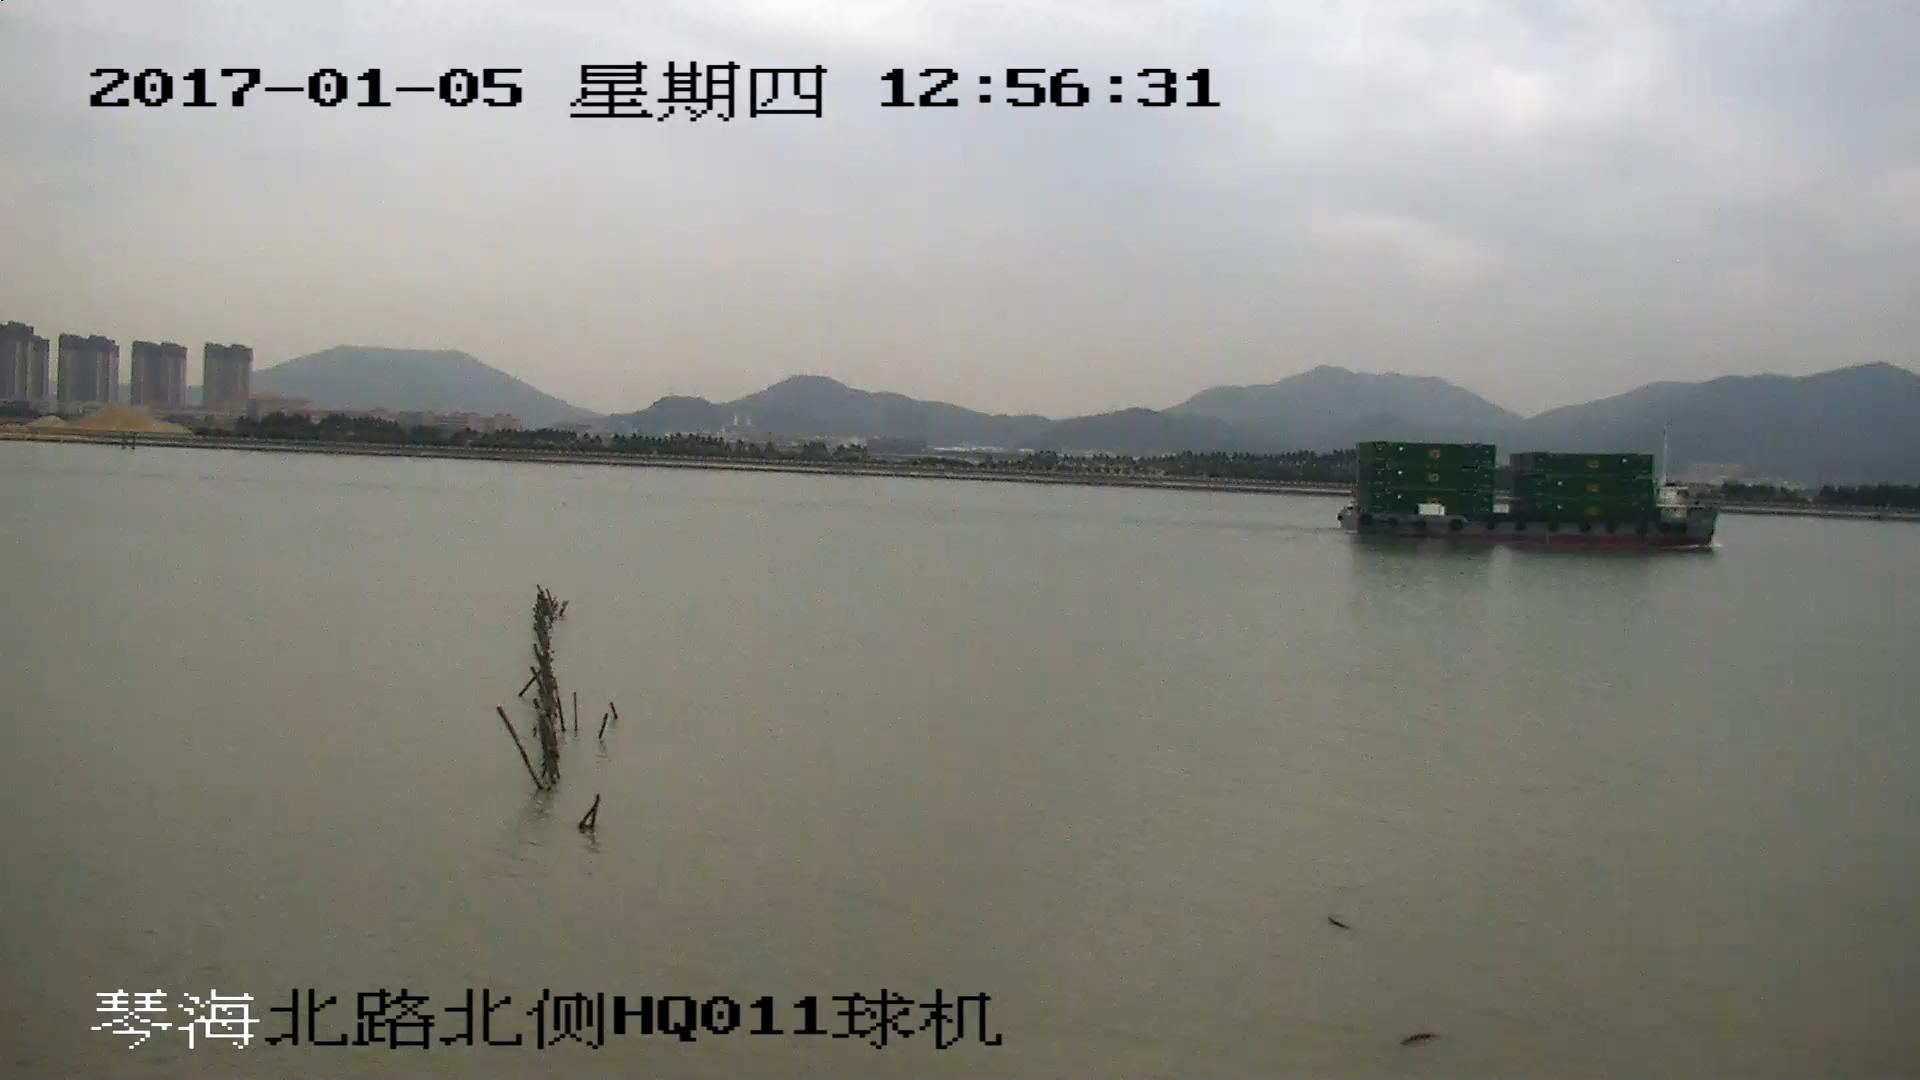container ship: (1343, 439, 1714, 550)
